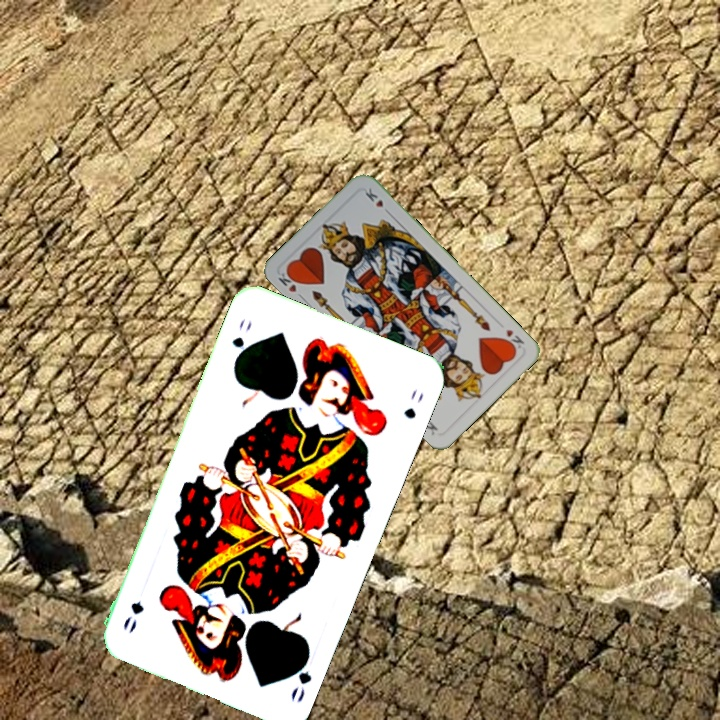GO: (286, 647, 314, 705), (228, 314, 255, 367)
HK: (274, 266, 307, 302), (499, 325, 527, 354)
